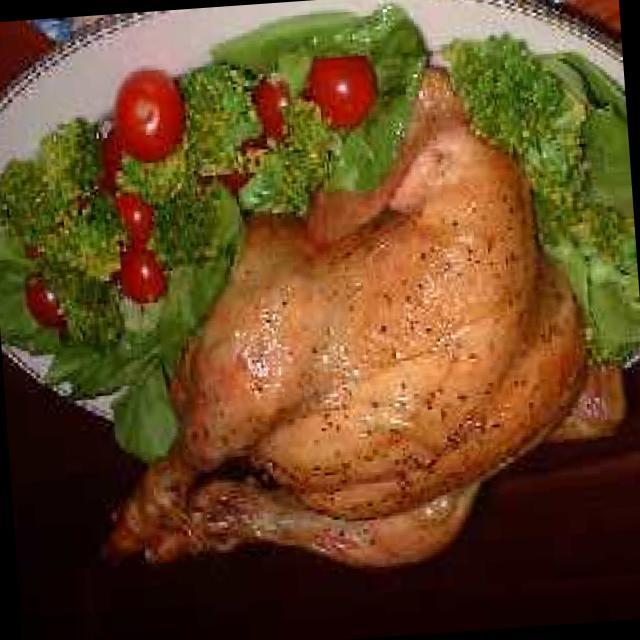Chicken: (101, 170, 599, 582)
Green Salad: (0, 27, 370, 437)
